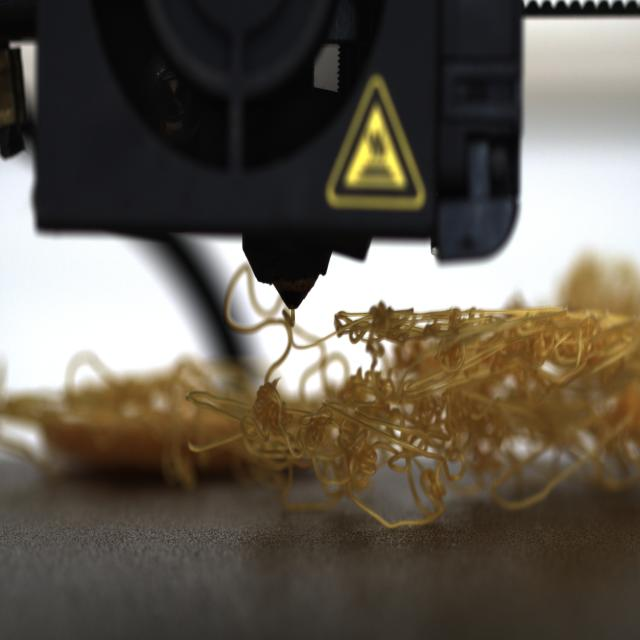Curling_Spagetti: (210, 236, 634, 551)
